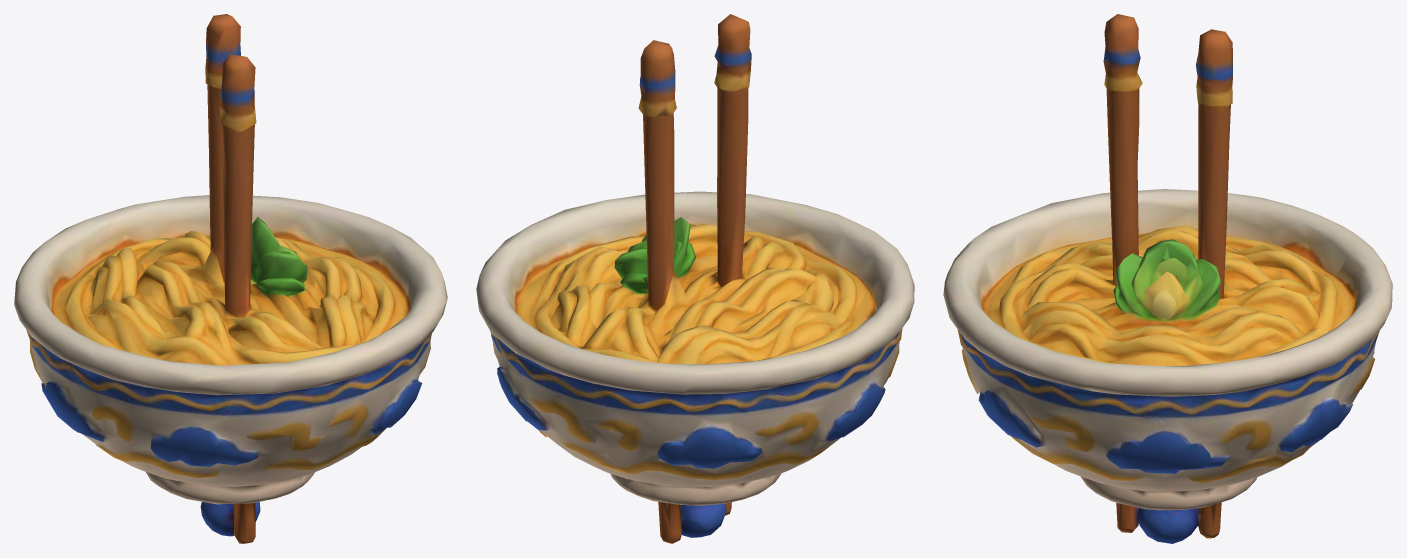
File: food_noodles.glb
The picture shows the model from 3 angles, left to right: view 1: azimuth 30°, elevation 25°; view 2: azimuth 150°, elevation 25°; view 3: azimuth 270°, elevation 25°; orthographic projection. The views are drawn at different scales.
Parts seen in each view (by area): view 1: tripo_node_ba33c1f4-2fb9-4fc0-9e11-5a63eca4a06e; view 2: tripo_node_ba33c1f4-2fb9-4fc0-9e11-5a63eca4a06e; view 3: tripo_node_ba33c1f4-2fb9-4fc0-9e11-5a63eca4a06e.
Boxes of the visible parts, bbox=[...] form: tripo_node_ba33c1f4-2fb9-4fc0-9e11-5a63eca4a06e: bbox=[14, 14, 447, 543]; tripo_node_ba33c1f4-2fb9-4fc0-9e11-5a63eca4a06e: bbox=[476, 14, 914, 543]; tripo_node_ba33c1f4-2fb9-4fc0-9e11-5a63eca4a06e: bbox=[943, 14, 1392, 543].
Bounding box in the file's own units: 0.1975 × 0.25 × 0.1974.
1 material, 1 textured.
